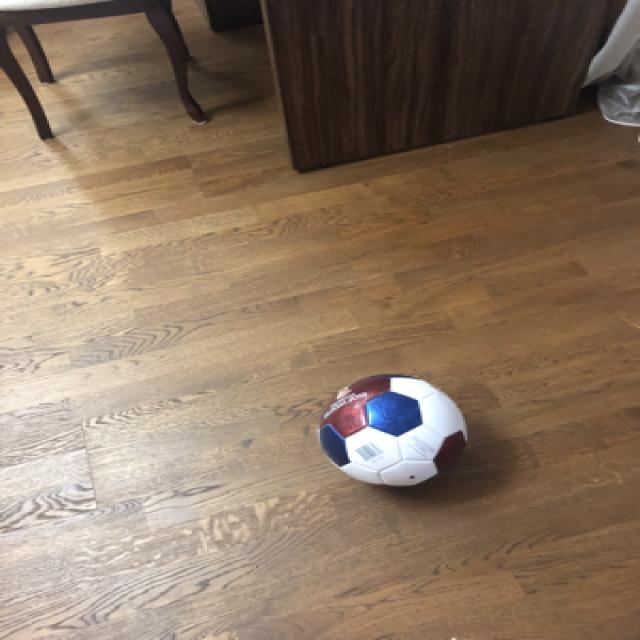soccer_ball: (312, 370, 472, 488)
